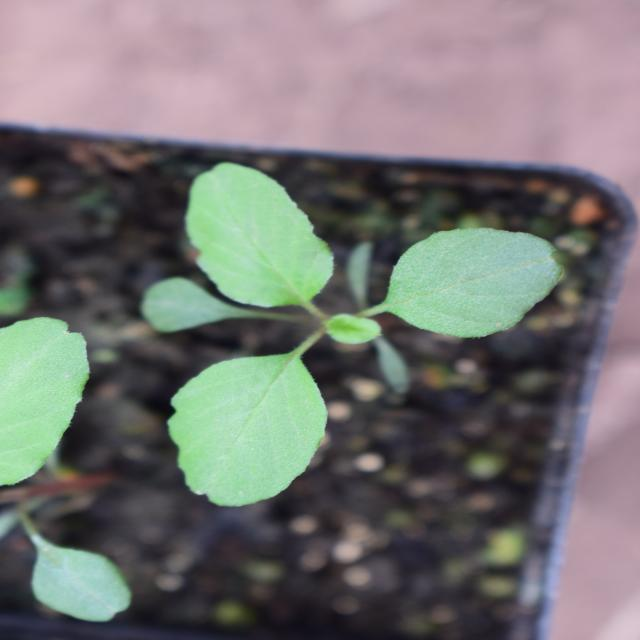pigweed: (148, 140, 482, 567)
